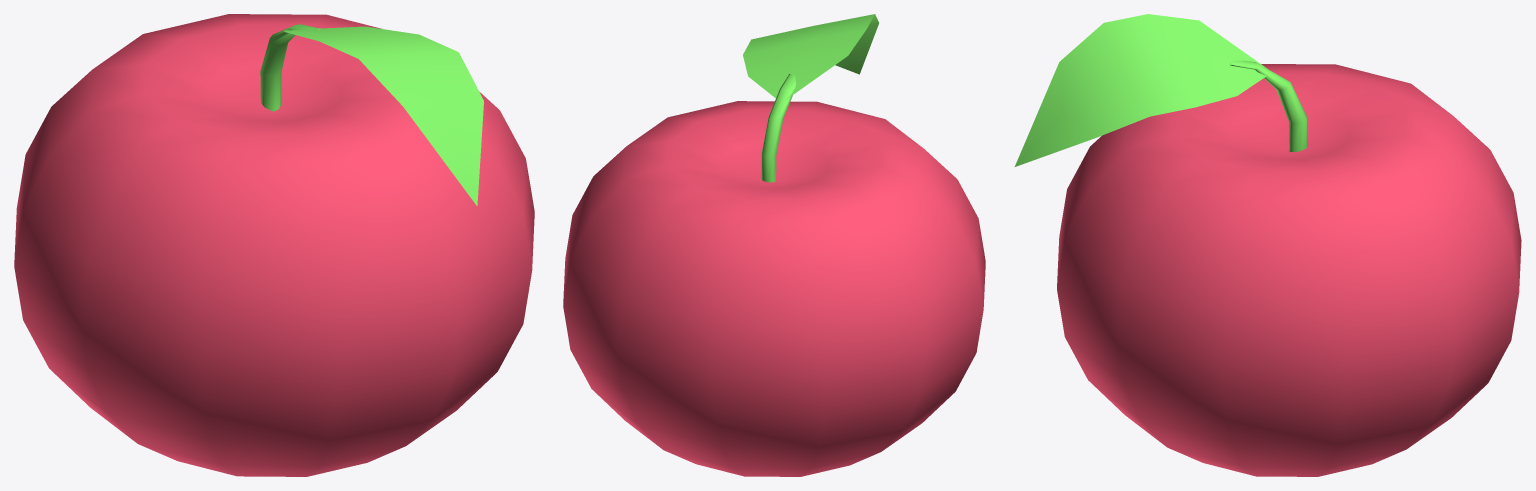
Rendered from ToyObject_187.fbx.
3 renders of one model, left to right at view 1: azimuth 30°, elevation 25°; view 2: azimuth 150°, elevation 25°; view 3: azimuth 270°, elevation 25°, orthographic. The views are drawn at different scales.
Visible parts, largest first — view 1: object-1.076; view 2: object-1.076; view 3: object-1.076.
Boxes of the visible parts, x1,y1,x2,y2 form: object-1.076: (14, 14, 534, 476); object-1.076: (563, 14, 985, 476); object-1.076: (1014, 14, 1521, 476).
Size of the model in its own units: 0.1252 by 0.1261 by 0.1366.
